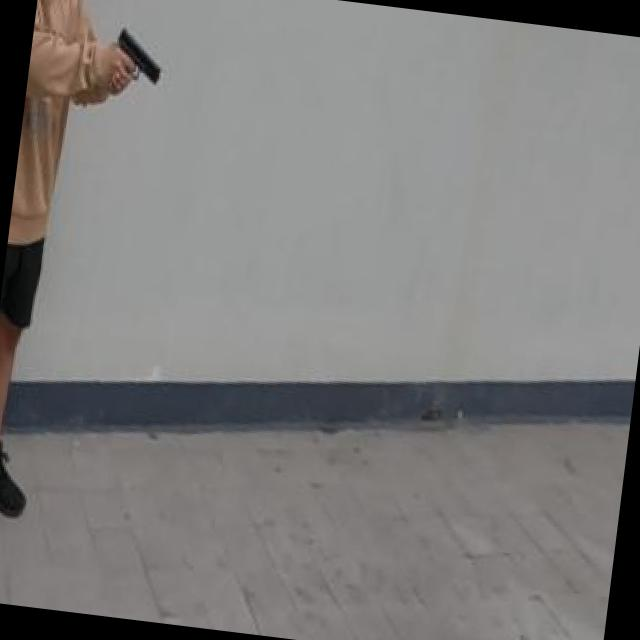Guns: (94, 9, 180, 110)
